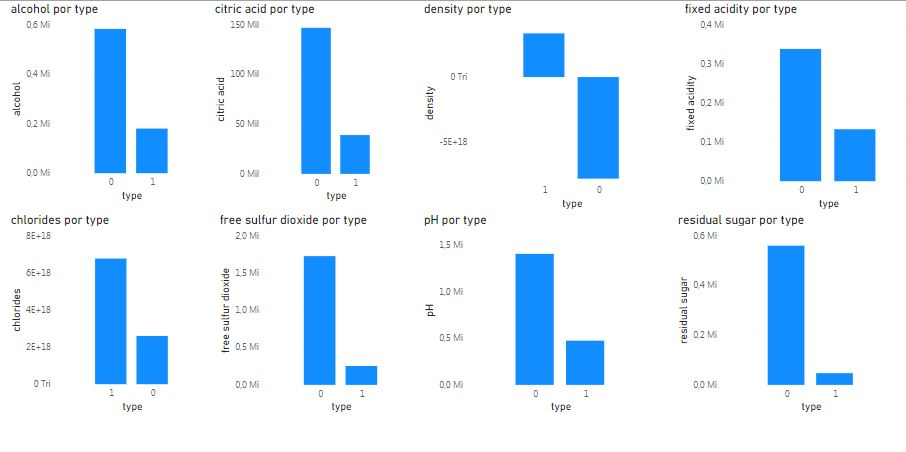

What the dashboard file says about the page in this screenshot:
{"tool":"powerbi","page":{"name":"Página 1","canvas":[1280,720],"ordinal":0},"visuals":[{"type":"clusteredColumnChart","fields":{"Category":["winecorrel.type"],"Y":["Sum(winecorrel.alcohol)"]},"box":[10,0,280,280],"z":0},{"type":"clusteredColumnChart","fields":{"Category":["winecorrel.type"],"Y":["Sum(winecorrel.density)"]},"box":[577.8,0,349.4,290.6],"z":1000},{"type":"clusteredColumnChart","fields":{"Category":["winecorrel.type"],"Y":["Sum(winecorrel.fixed acidity)"]},"box":[937,0,343,291],"z":2000},{"type":"clusteredColumnChart","fields":{"Category":["winecorrel.type"],"Y":["Sum(winecorrel.free sulfur dioxide)"]},"box":[297.3,290.6,280.5,280.5],"z":3000},{"type":"clusteredColumnChart","fields":{"Category":["winecorrel.type"],"Y":["Sum(winecorrel.pH)"]},"box":[577.8,290.6,324.2,280.5],"z":4000},{"type":"clusteredColumnChart","fields":{"Category":["winecorrel.type"],"Y":["Sum(winecorrel.residual sugar)"]},"box":[927.2,290.6,314.1,280.5],"z":5000},{"type":"clusteredColumnChart","fields":{"Category":["winecorrel.type"],"Y":["Sum(winecorrel.chlorides)"]},"box":[10,290,280,280],"z":6000},{"type":"clusteredColumnChart","fields":{"Category":["winecorrel.type"],"Y":["Sum(winecorrel.citric acid)"]},"box":[290.6,0,273.8,280.5],"z":7000}]}

Visuals, with their boxes on the page's 1280x720 design canvas (x1, y1, x2, y2). These are canvas units, not pixel positions in the 906x452 screenshot, which may show the page scaled, cropped or inside an application window:
clusteredColumnChart - winecorrel.type x Sum(winecorrel.alcohol): x1=10, y1=0, x2=290, y2=280
clusteredColumnChart - winecorrel.type x Sum(winecorrel.density): x1=578, y1=0, x2=927, y2=291
clusteredColumnChart - winecorrel.type x Sum(winecorrel.fixed acidity): x1=937, y1=0, x2=1280, y2=291
clusteredColumnChart - winecorrel.type x Sum(winecorrel.free sulfur dioxide): x1=297, y1=291, x2=578, y2=571
clusteredColumnChart - winecorrel.type x Sum(winecorrel.pH): x1=578, y1=291, x2=902, y2=571
clusteredColumnChart - winecorrel.type x Sum(winecorrel.residual sugar): x1=927, y1=291, x2=1241, y2=571
clusteredColumnChart - winecorrel.type x Sum(winecorrel.chlorides): x1=10, y1=290, x2=290, y2=570
clusteredColumnChart - winecorrel.type x Sum(winecorrel.citric acid): x1=291, y1=0, x2=564, y2=280
